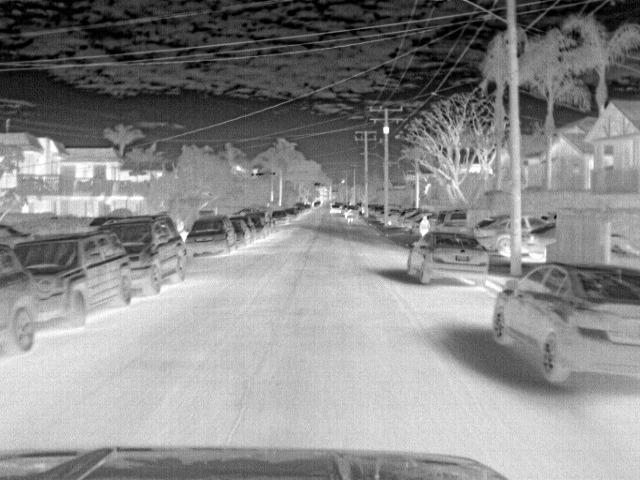car: (488, 266, 639, 386), (12, 229, 134, 327), (91, 214, 191, 296), (408, 232, 492, 294), (0, 244, 43, 359), (185, 217, 237, 257), (465, 216, 511, 255), (518, 221, 556, 259), (434, 208, 466, 234), (520, 211, 544, 241), (229, 218, 251, 244), (270, 210, 291, 231), (328, 202, 344, 214)
person: (416, 215, 428, 238)
